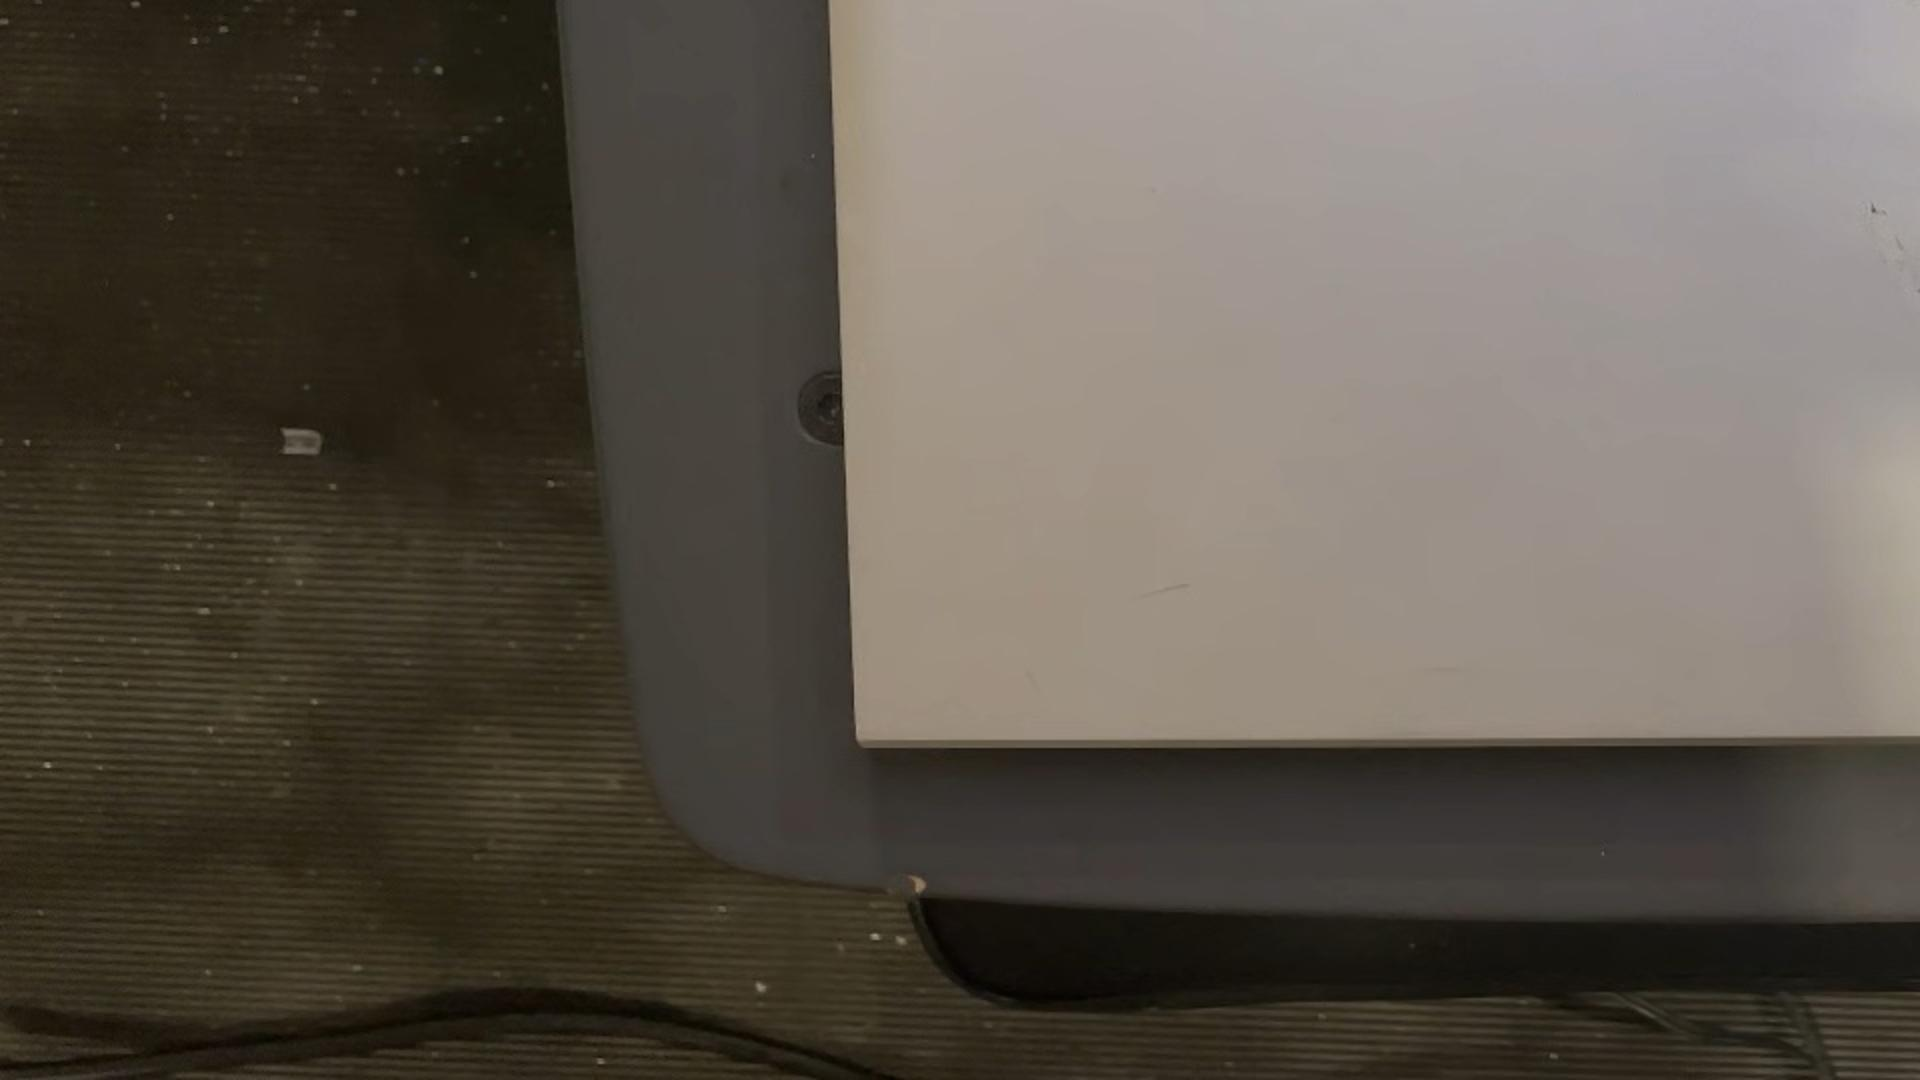scratches: (1129, 579, 1197, 604)
